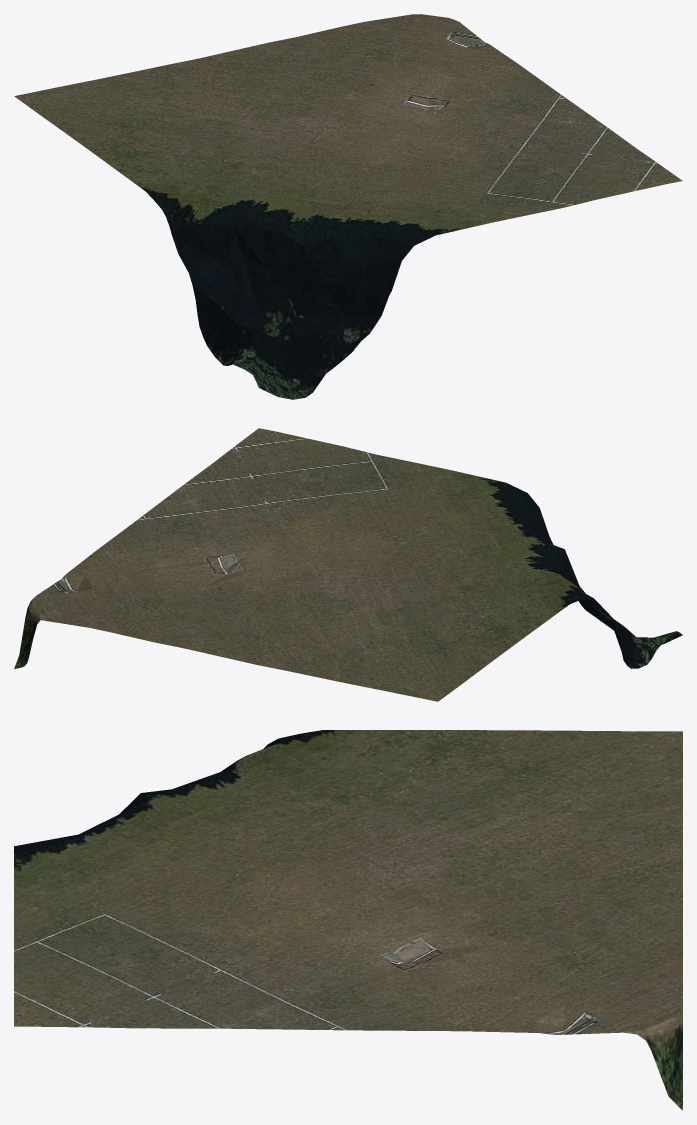
File: map_15_8186_13788.dae
3 renders of one model, top to bottom at view 1: azimuth 30°, elevation 25°; view 2: azimuth 150°, elevation 25°; view 3: azimuth 270°, elevation 25°, orthographic. The views are drawn at different scales.
Parts seen in each view (by area): view 1: Ter0; view 2: Ter0; view 3: Ter0.
Boxes of the visible parts, x1=… form: Ter0: x1=14, y1=14, x2=682, y2=399; Ter0: x1=14, y1=428, x2=682, y2=701; Ter0: x1=14, y1=730, x2=682, y2=1110.
Size of the model in its own units: 63.88 by 63.88 by 19.39.
Materials: 3 (3 with a texture image).
